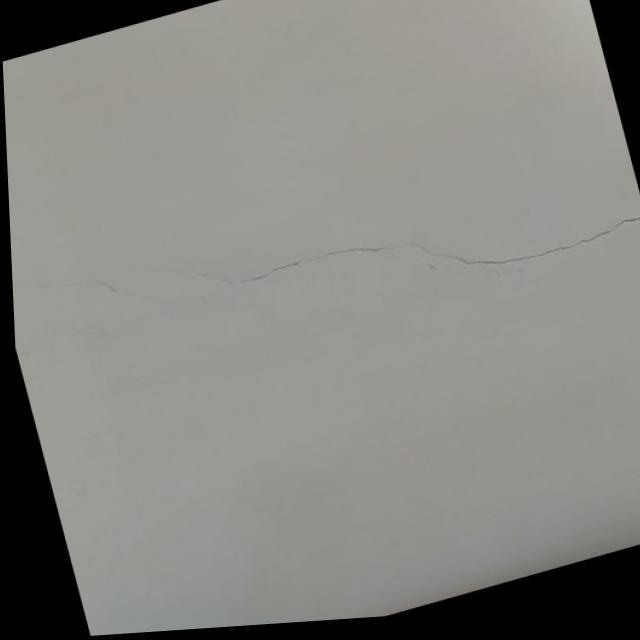Crack: (189, 212, 636, 286)
